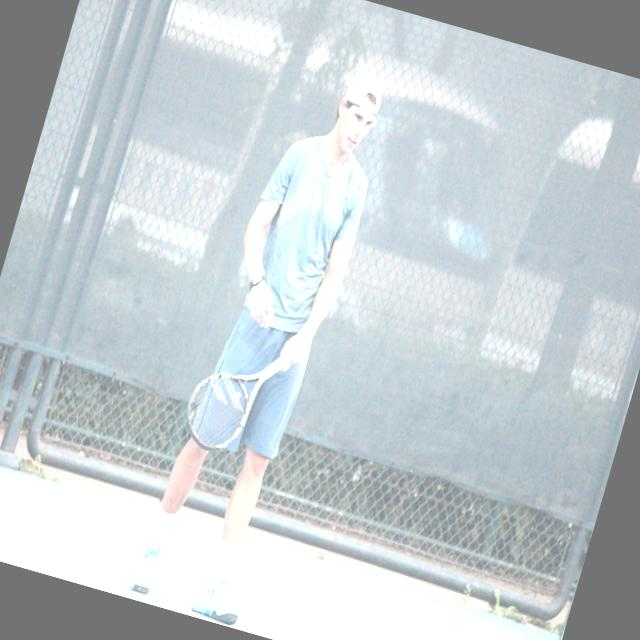Vehicle: (98, 0, 541, 360), (478, 102, 640, 409)
